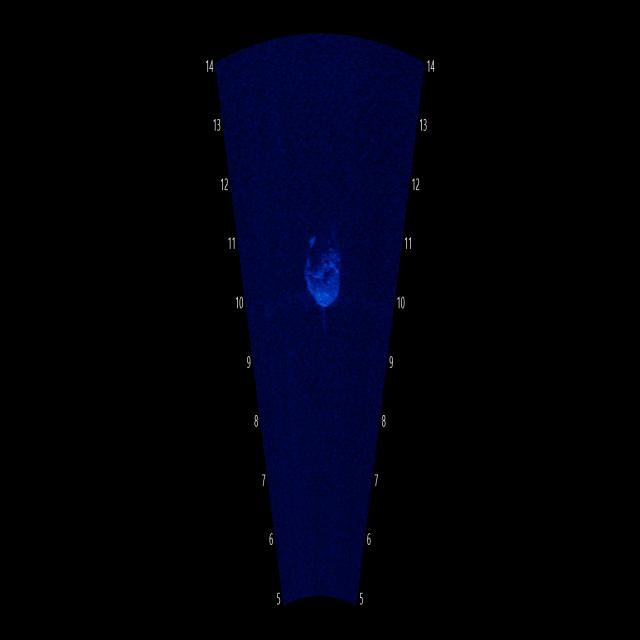circle: (301, 220, 347, 313)
